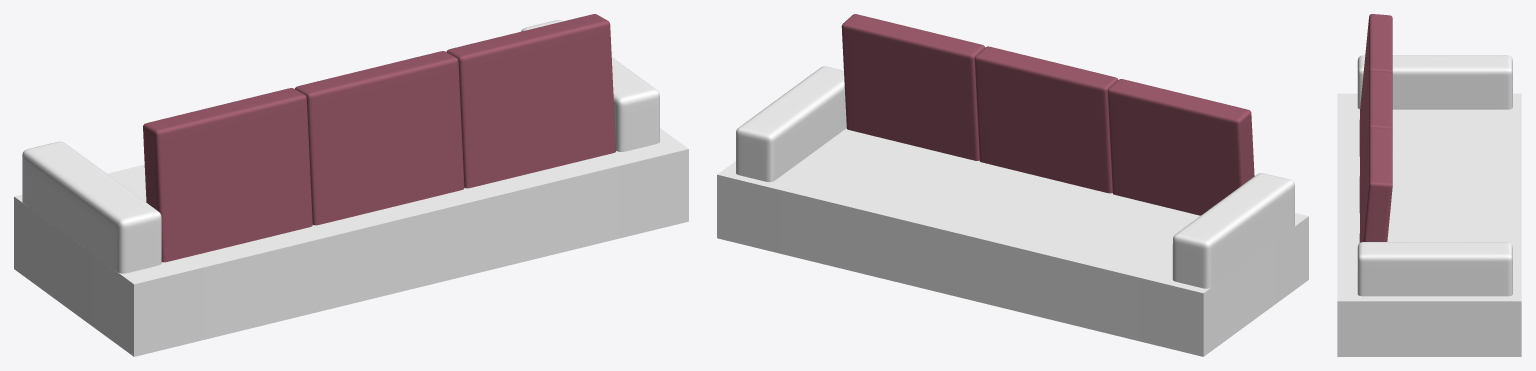
The picture shows the model from 3 angles, left to right: view 1: azimuth 30°, elevation 25°; view 2: azimuth 150°, elevation 25°; view 3: azimuth 270°, elevation 25°; orthographic projection. The views are drawn at different scales.
Parts seen in each view (by area): view 1: object 1, MainCouch_BackCushion_1, MainCouch_BackCushion_3, MainCouch_BackCushion_2, MainCouch_Armrest_Left, MainCouch_Armrest_Right; view 2: object 1, MainCouch_BackCushion_2, MainCouch_BackCushion_3, MainCouch_BackCushion_1, MainCouch_Armrest_Left, MainCouch_Armrest_Right; view 3: object 1, MainCouch_Armrest_Right, MainCouch_Armrest_Left, MainCouch_BackCushion_3, MainCouch_BackCushion_2, MainCouch_BackCushion_1.
Boxes of the visible parts, x1,y1,x2,y2 form: object 1: [14, 128, 688, 356]; MainCouch_BackCushion_1: [143, 88, 312, 262]; MainCouch_BackCushion_3: [446, 14, 615, 188]; MainCouch_BackCushion_2: [295, 51, 464, 225]; MainCouch_Armrest_Left: [22, 141, 161, 273]; MainCouch_Armrest_Right: [521, 20, 659, 151]; object 1: [717, 128, 1308, 356]; MainCouch_BackCushion_2: [974, 46, 1117, 193]; MainCouch_BackCushion_3: [841, 14, 985, 160]; MainCouch_BackCushion_1: [1107, 79, 1254, 215]; MainCouch_Armrest_Left: [1172, 173, 1294, 288]; MainCouch_Armrest_Right: [736, 66, 846, 182]; object 1: [1337, 93, 1521, 356]; MainCouch_Armrest_Right: [1357, 242, 1512, 296]; MainCouch_Armrest_Left: [1357, 55, 1512, 109]; MainCouch_BackCushion_3: [1359, 127, 1392, 242]; MainCouch_BackCushion_2: [1359, 70, 1392, 221]; MainCouch_BackCushion_1: [1359, 14, 1392, 165].
Size of the model in its own units: 5.12 by 1.75 by 1.92.
